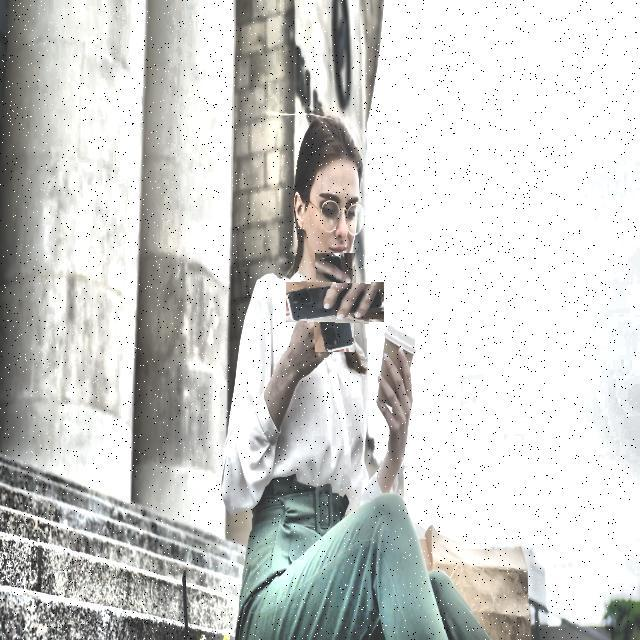Phone: (300, 268, 370, 338)
